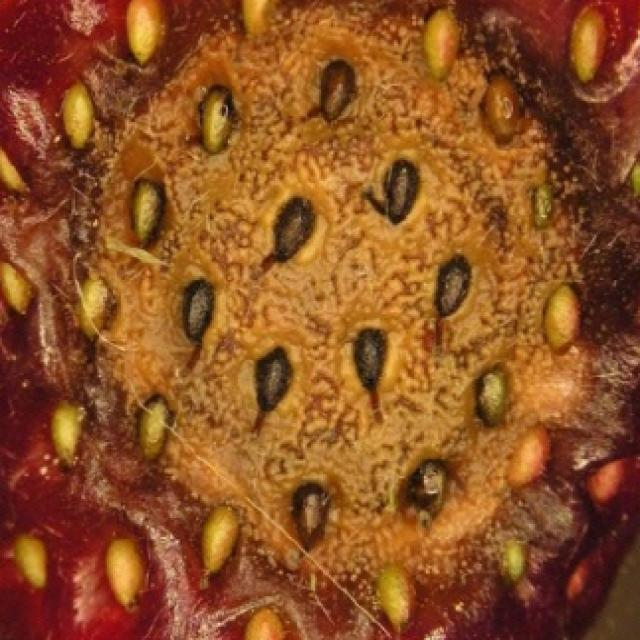Anthracnose Fruit Rot: (0, 0, 640, 640)
